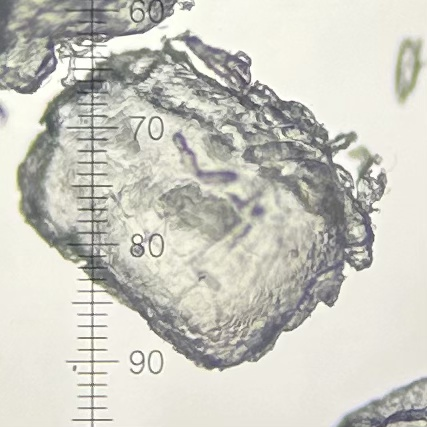microplastic: (13, 35, 376, 374), (1, 1, 178, 93), (171, 26, 253, 88), (335, 377, 427, 427), (347, 144, 388, 218), (395, 37, 421, 106)
